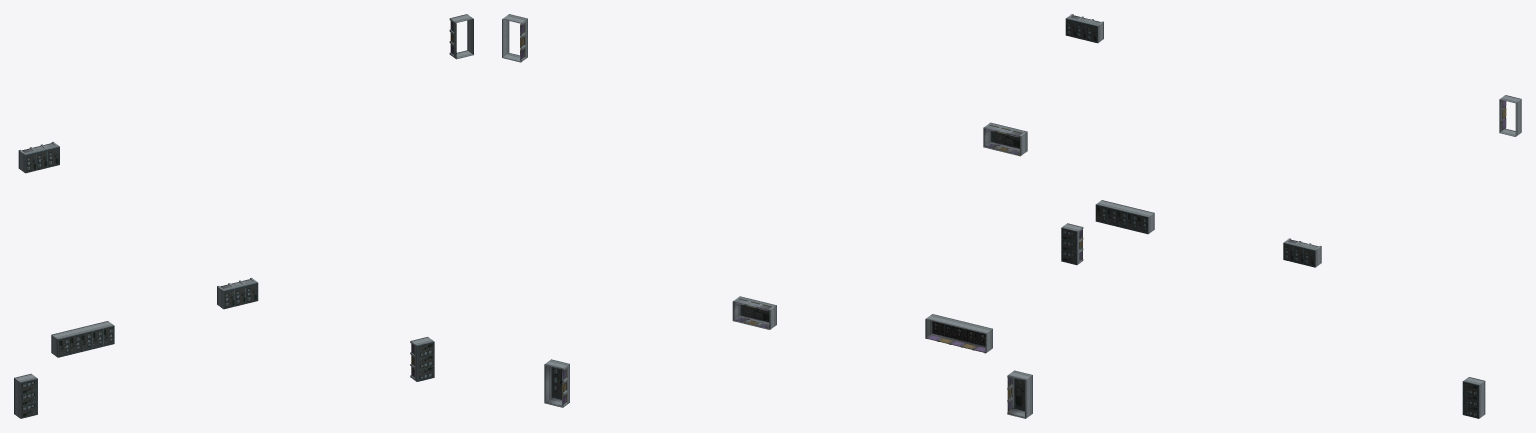
The model's file is landne_landne__part_13.obj.
The picture shows the model from 3 angles, left to right: view 1: azimuth 30°, elevation 25°; view 2: azimuth 150°, elevation 25°; view 3: azimuth 330°, elevation 25°; orthographic projection. The views are drawn at different scales.
Parts seen in each view (by area): view 1: landne_landne__part_13; view 2: landne_landne__part_13; view 3: landne_landne__part_13.
Part boxes in pixels (left/top/right/bottom): landne_landne__part_13: left=14, top=14, right=473, bottom=418; landne_landne__part_13: left=502, top=14, right=1032, bottom=418; landne_landne__part_13: left=1061, top=14, right=1521, bottom=418.
Size of the model in its own units: 225 by 159 by 20.5.
Materials: 46 (46 with a texture image).
